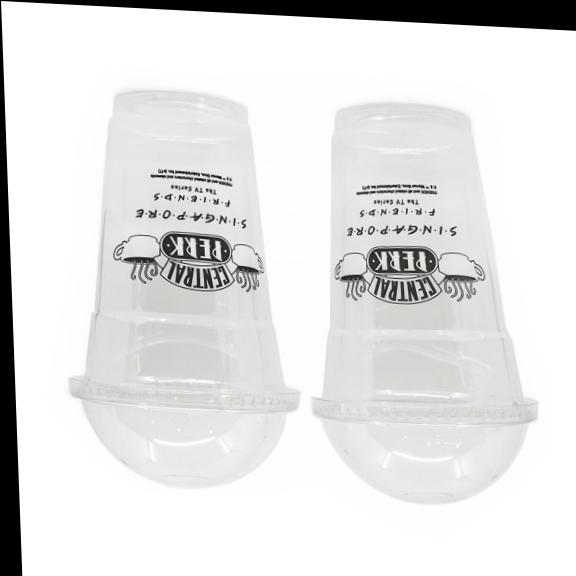Plastik: (70, 92, 297, 487), (312, 103, 535, 503)
